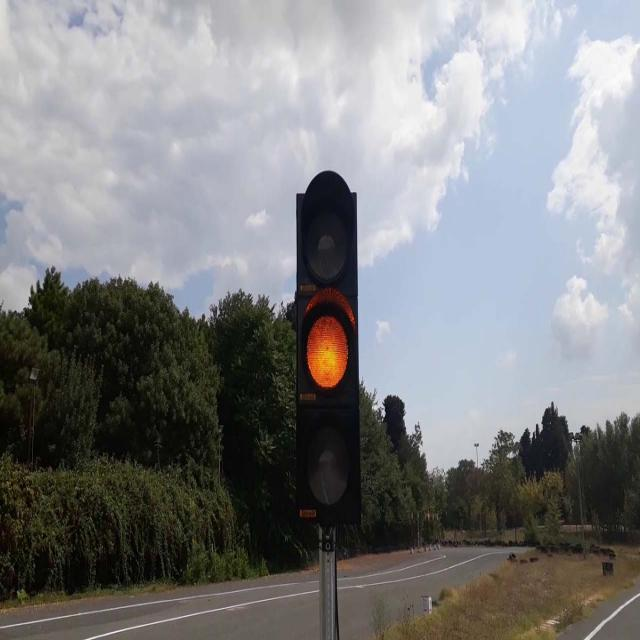sari: (297, 172, 359, 521)
